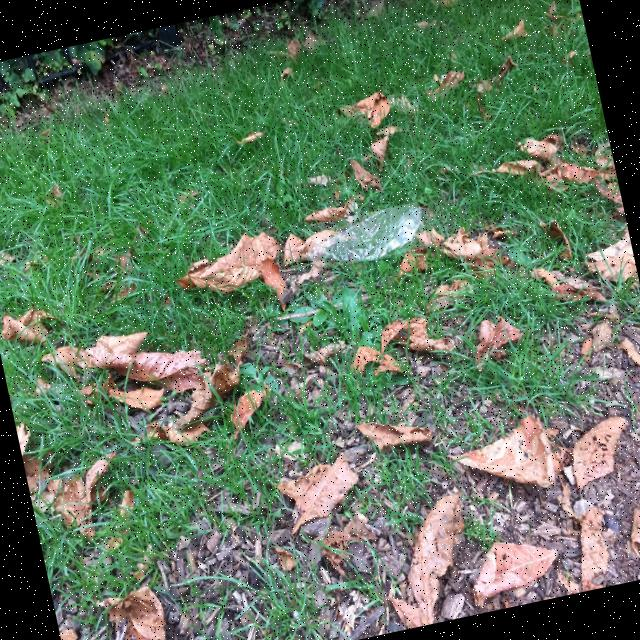Plastic film: (308, 205, 421, 260)
